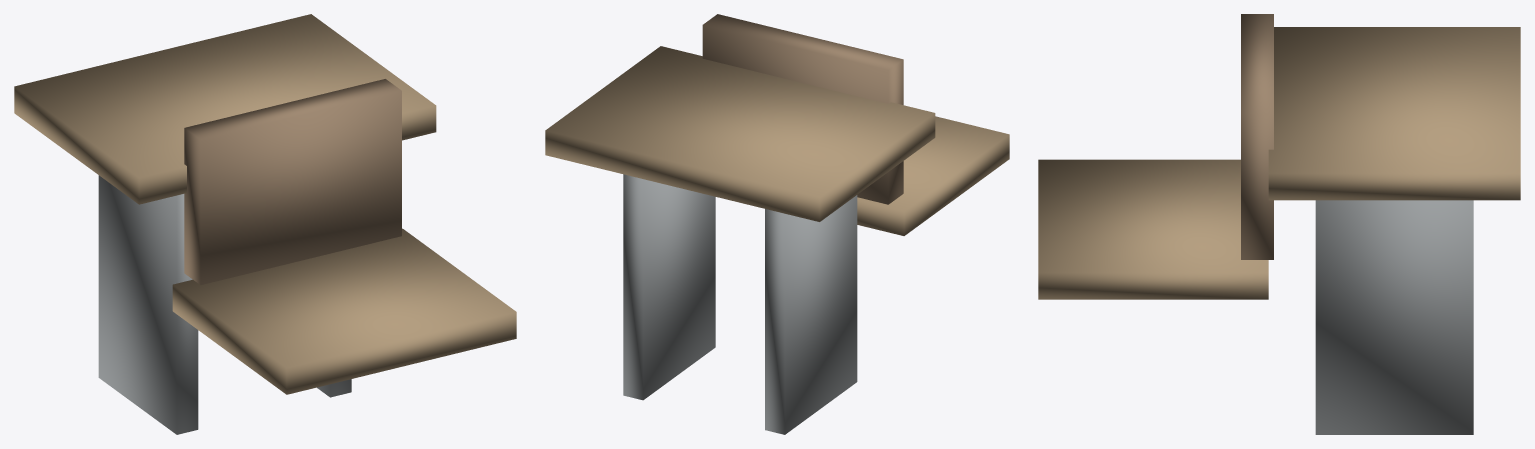
Rendered from classroom_desk__squat.glb.
3 views of the same model, side by side, from view 1: azimuth 30°, elevation 25°; view 2: azimuth 150°, elevation 25°; view 3: azimuth 270°, elevation 25° (orthographic). The views are drawn at different scales.
Visible parts, largest first — view 1: world; view 2: world; view 3: world.
Part boxes in pixels (bbox=[...]): world: bbox=[14, 14, 516, 434]; world: bbox=[545, 14, 1009, 434]; world: bbox=[1038, 14, 1520, 434].
Bounding box in the file's own units: 0.682 × 0.714 × 0.9504.
